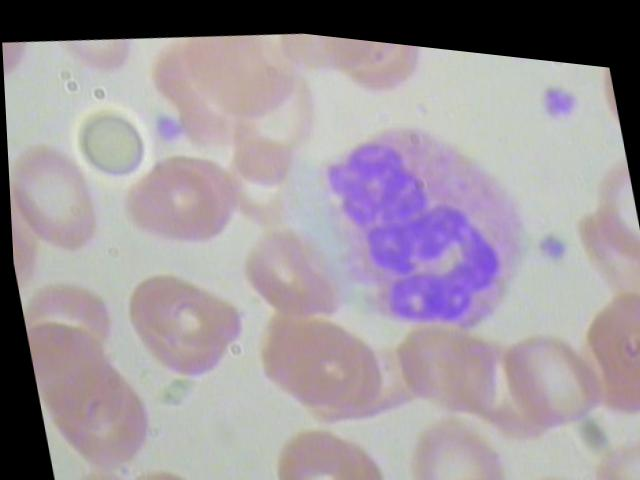Platelets: (538, 69, 582, 115), (526, 210, 569, 257), (150, 105, 186, 144)
White Blood Cells: (290, 91, 548, 354)
